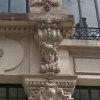Statue: (21, 7, 80, 87)
